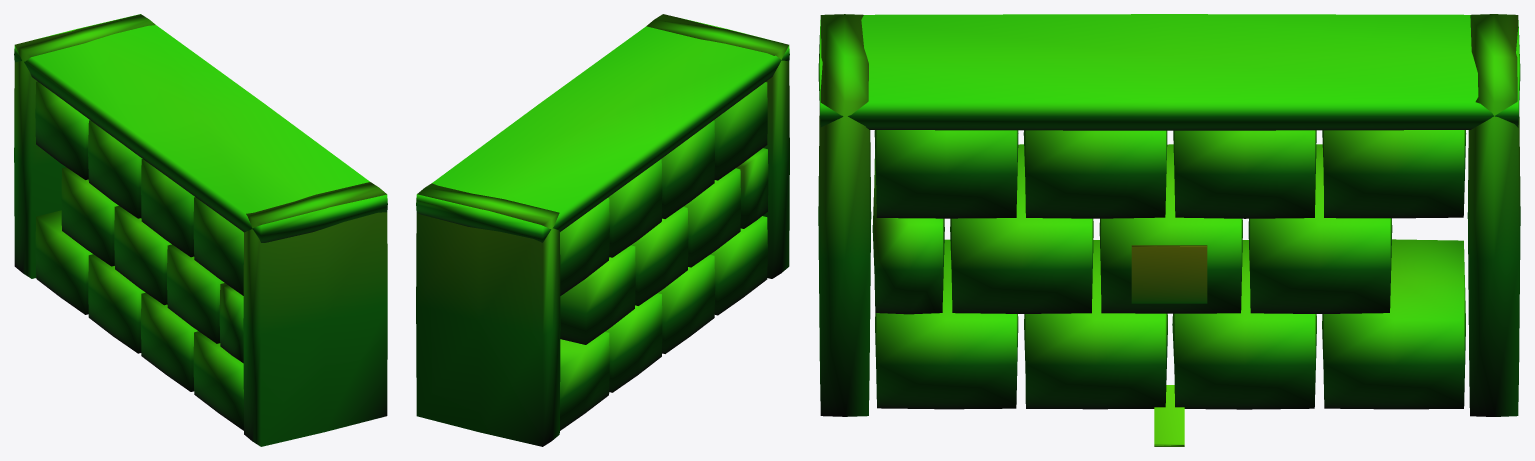
Rendered from quench_seal.glb.
The picture shows the model from 3 angles, left to right: view 1: azimuth 30°, elevation 25°; view 2: azimuth 150°, elevation 25°; view 3: azimuth 270°, elevation 25°; orthographic projection. The views are drawn at different scales.
Visible parts, largest first — view 1: quench_seal; view 2: quench_seal; view 3: quench_seal.
Boxes of the visible parts, x1,y1,x2,y2 form: quench_seal: (14,14,387,446); quench_seal: (416,14,789,446); quench_seal: (818,14,1520,446).
Size of what is drawn, in the model's own units: 1.6 by 2 by 4.
